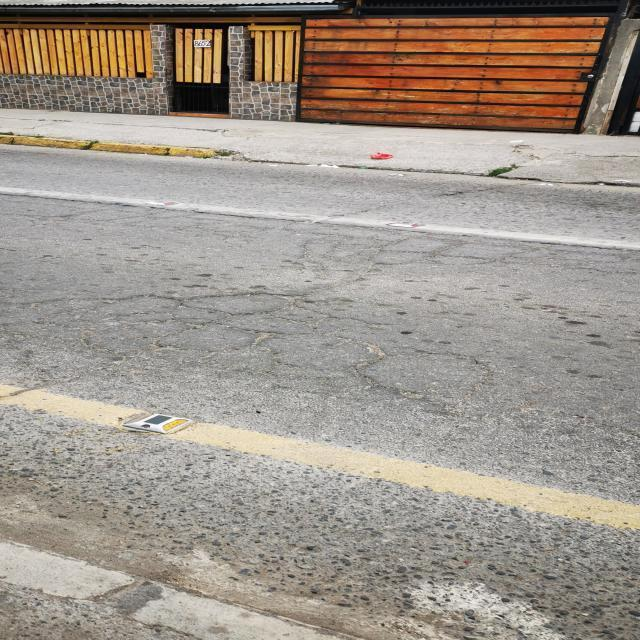PIEL DE COCODRILO: (34, 288, 639, 437), (280, 220, 634, 277)
